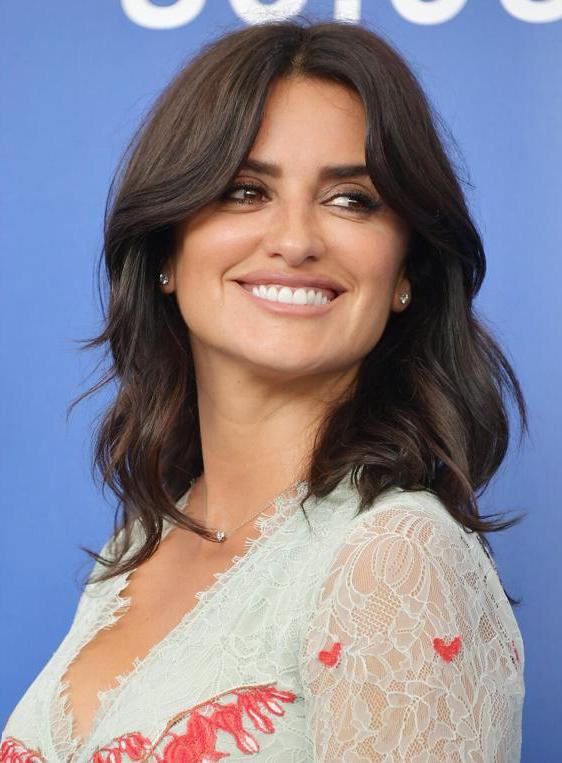Sober: (172, 82, 399, 327)
